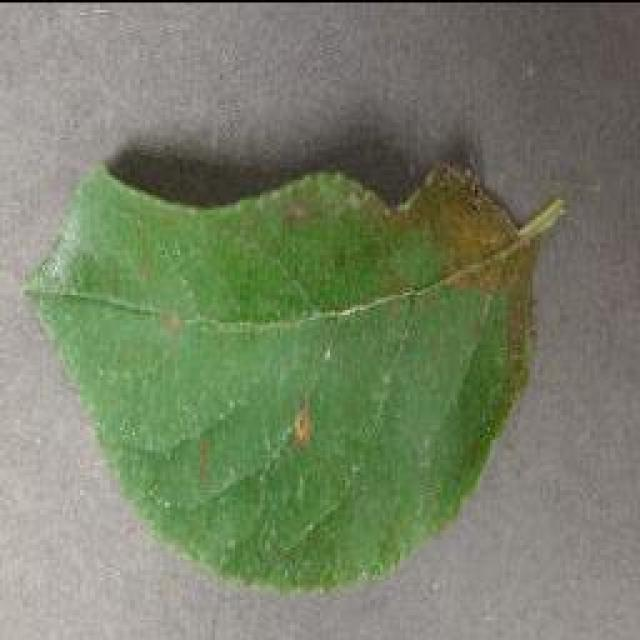apple healthy: (20, 145, 565, 597)
